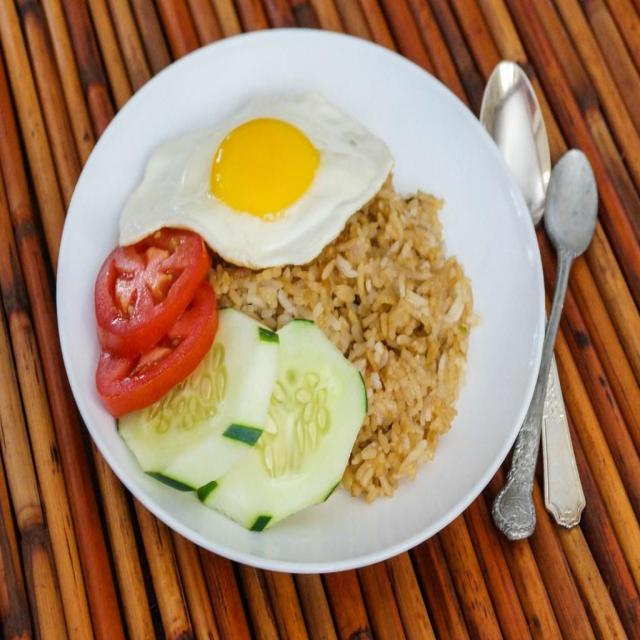Nasi Goreng: (203, 146, 472, 488)
